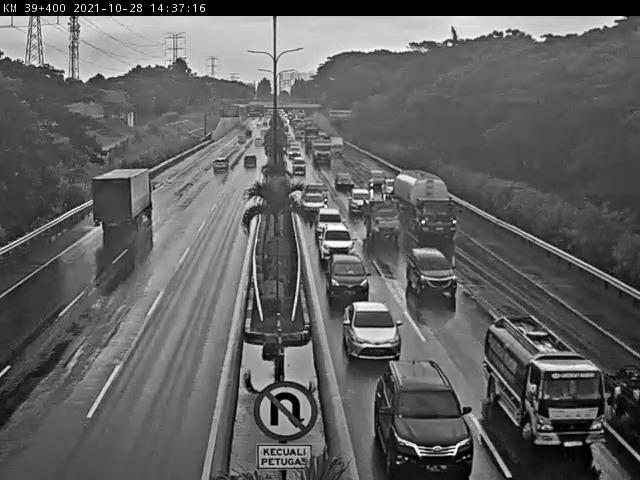big truck: (393, 168, 458, 238), (92, 168, 155, 231), (310, 136, 335, 165)
car: (373, 356, 473, 477), (341, 299, 399, 357), (405, 248, 458, 298), (324, 249, 371, 302), (322, 227, 355, 262), (315, 206, 346, 241), (345, 184, 374, 213), (299, 190, 324, 217), (333, 171, 359, 191), (366, 168, 386, 191), (301, 180, 329, 196), (212, 156, 230, 174), (291, 157, 308, 175), (242, 154, 258, 171)
small truck: (483, 314, 605, 448), (602, 363, 640, 436), (363, 202, 402, 246)
